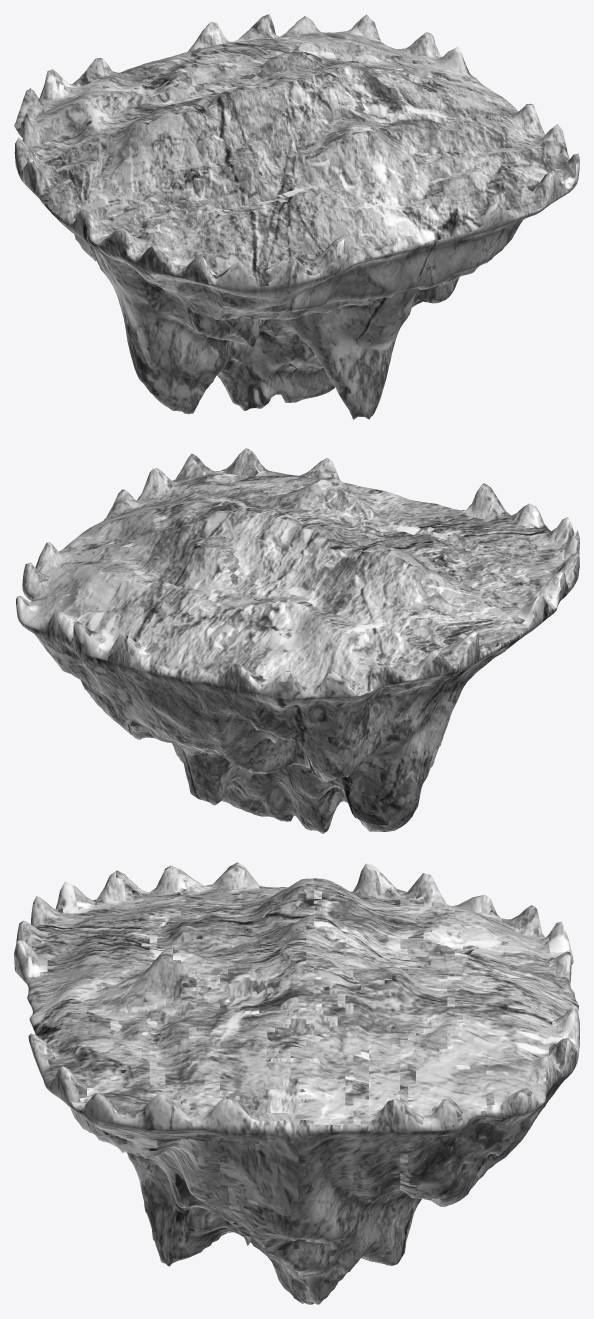
File: BaseFlotante.glb
The picture shows the model from 3 angles, top to bottom: view 1: azimuth 30°, elevation 25°; view 2: azimuth 150°, elevation 25°; view 3: azimuth 270°, elevation 25°; orthographic projection. The views are drawn at different scales.
Visible parts, largest first — view 1: Landscape; view 2: Landscape; view 3: Landscape.
Boxes of the visible parts, left/top/right/bottom form: Landscape: left=14, top=14, right=579, bottom=419; Landscape: left=16, top=448, right=579, bottom=833; Landscape: left=14, top=862, right=579, bottom=1304.
Bounding box in the file's own units: 1.83 × 1.22 × 1.81.
Materials: 1 (1 with a texture image).
